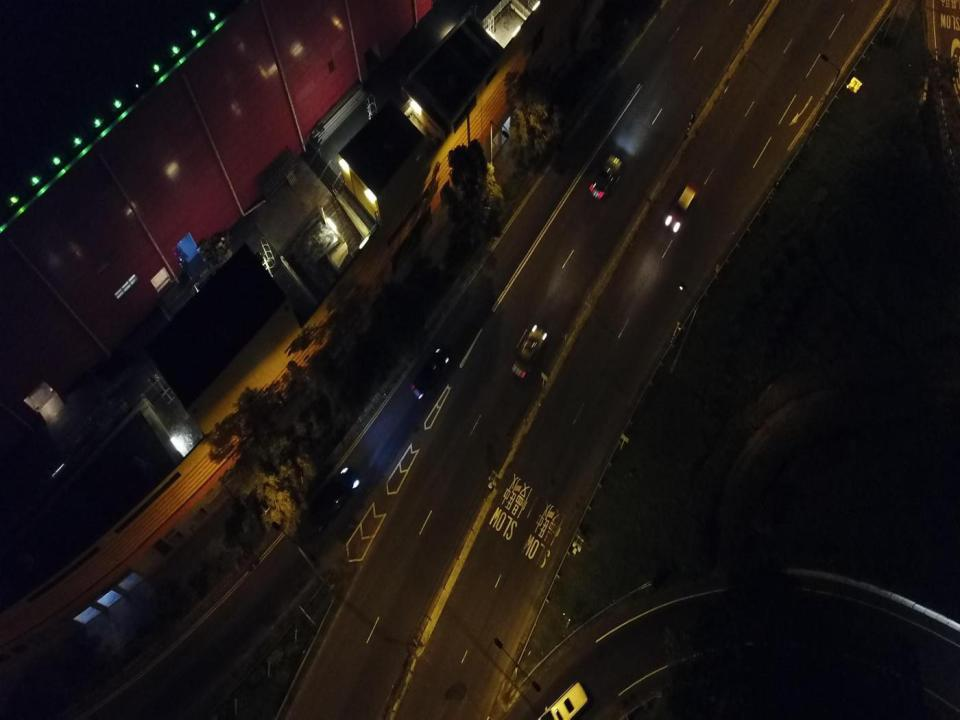car: (304, 467, 360, 531), (511, 323, 546, 379), (412, 348, 449, 399), (665, 180, 699, 232), (590, 154, 620, 203)
van: (535, 683, 590, 719)
